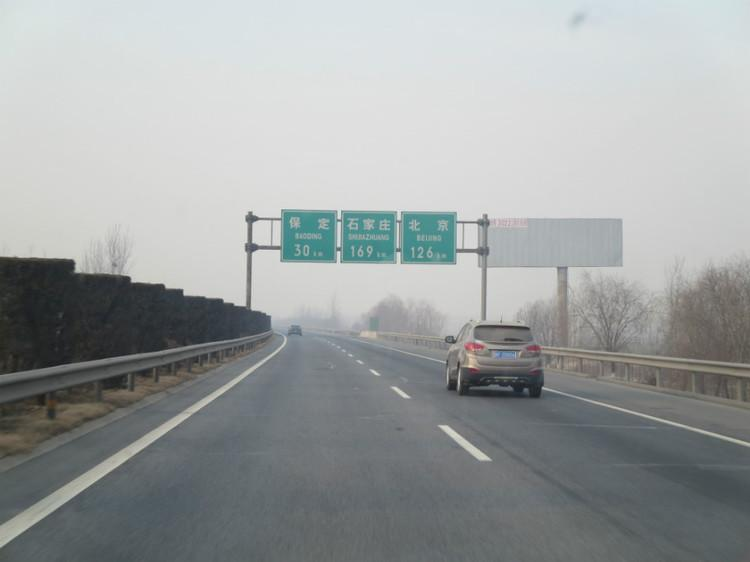car: (445, 311, 545, 398), (287, 324, 303, 337)
